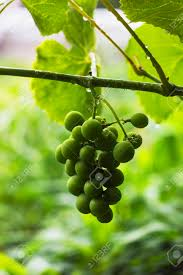grapes: (60, 108, 149, 226)
